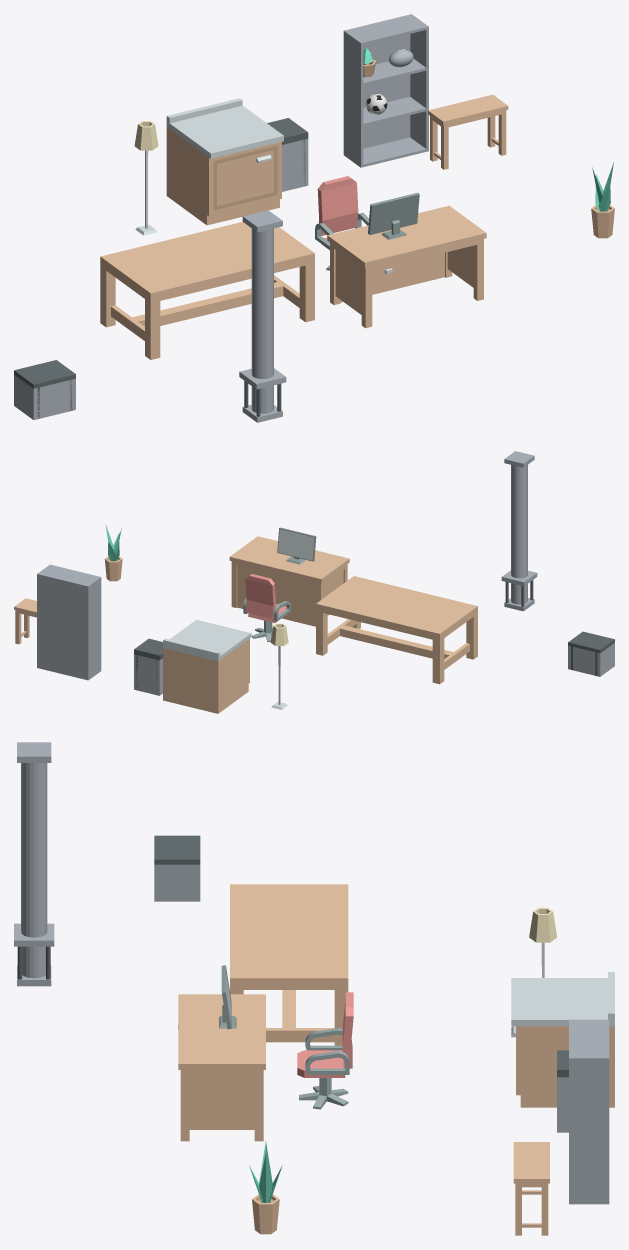
The picture shows the model from 3 angles, top to bottom: view 1: azimuth 30°, elevation 25°; view 2: azimuth 150°, elevation 25°; view 3: azimuth 270°, elevation 25°; orthographic projection. The views are drawn at different scales.
Parts seen in each view (by area): view 1: table_green__table(Clone), desk_blue__desk(Clone), cabinet_blue__kitchenCabinet(Clone), column_cyan__column_cyan shaft, cabinet_blue__door, sidetable_brown__sideTable(Clone), shelf_orange__shelf_orange back, shelf_orange__shelf_orange side_l, deskchair_black__chair, crate_red__crate_red shell, shelf_orange__shelf_orange side_r, monitor_gray__computerScreen(Clone) (+10 smaller); view 2: table_green__table(Clone), cabinet_blue__kitchenCabinet(Clone), desk_blue__desk(Clone), shelf_orange__shelf_orange back, column_cyan__column_cyan shaft, deskchair_black__chair, shelf_orange__shelf_orange side_l, monitor_gray__computerScreen(Clone), crate_red__crate_red shell, bin_gray__bin_gray shell, sidetable_brown__sideTable(Clone), lamp_white__lampRoundFloor(Clone) (+4 smaller); view 3: table_green__table(Clone), desk_blue__desk(Clone), cabinet_blue__kitchenCabinet(Clone), shelf_orange__shelf_orange side_r, column_cyan__column_cyan shaft, sidetable_brown__sideTable(Clone), deskchair_black__chair, crate_red__crate_red shell, crate_red__crate_red lid, shelf_orange__shelf_orange board3, lamp_white__lampRoundFloor(Clone), plant_pink__pottedPlant(Clone) (+5 smaller).
Boxes of the visible parts, x1,y1,x2,y2 form: table_green__table(Clone): [100, 221, 314, 359]; desk_blue__desk(Clone): [327, 205, 486, 328]; cabinet_blue__kitchenCabinet(Clone): [166, 98, 283, 225]; column_cyan__column_cyan shaft: [251, 228, 273, 413]; cabinet_blue__door: [213, 145, 277, 210]; sidetable_brown__sideTable(Clone): [428, 94, 508, 169]; shelf_orange__shelf_orange back: [346, 15, 410, 148]; shelf_orange__shelf_orange side_l: [343, 30, 363, 167]; deskchair_black__chair: [315, 176, 368, 249]; crate_red__crate_red shell: [14, 375, 75, 419]; shelf_orange__shelf_orange side_r: [409, 14, 428, 151]; monitor_gray__computerScreen(Clone): [368, 192, 419, 239]; table_green__table(Clone): [316, 576, 477, 684]; cabinet_blue__kitchenCabinet(Clone): [163, 620, 251, 713]; desk_blue__desk(Clone): [229, 536, 349, 626]; shelf_orange__shelf_orange back: [39, 574, 86, 679]; column_cyan__column_cyan shaft: [511, 465, 527, 604]; deskchair_black__chair: [243, 574, 291, 622]; shelf_orange__shelf_orange side_l: [86, 576, 101, 680]; monitor_gray__computerScreen(Clone): [277, 527, 316, 564]; crate_red__crate_red shell: [568, 643, 614, 676]; bin_gray__bin_gray shell: [134, 654, 162, 695]; sidetable_brown__sideTable(Clone): [14, 598, 36, 644]; lamp_white__lampRoundFloor(Clone): [270, 623, 288, 709]; table_green__table(Clone): [230, 884, 348, 1045]; desk_blue__desk(Clone): [178, 994, 265, 1141]; cabinet_blue__kitchenCabinet(Clone): [511, 972, 614, 1107]; shelf_orange__shelf_orange side_r: [569, 1057, 609, 1204]; column_cyan__column_cyan shaft: [21, 763, 47, 978]; sidetable_brown__sideTable(Clone): [513, 1142, 549, 1235]; deskchair_black__chair: [297, 992, 353, 1077]; crate_red__crate_red shell: [154, 864, 200, 901]; crate_red__crate_red lid: [154, 835, 200, 864]; shelf_orange__shelf_orange board3: [569, 1021, 606, 1056]; lamp_white__lampRoundFloor(Clone): [529, 907, 557, 977]; plant_pink__pottedPlant(Clone): [252, 1194, 279, 1234].
Size of the model in its own units: 7.39 by 2.2 by 5.22.
